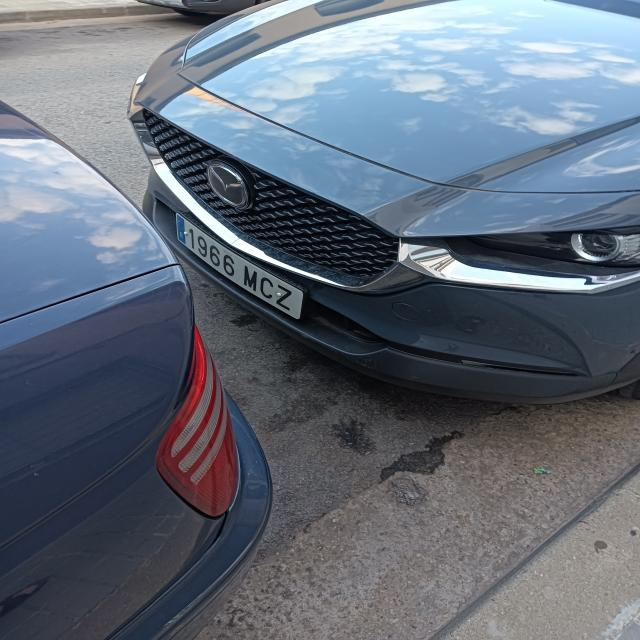license_plate-34Td: (180, 219, 302, 319)
